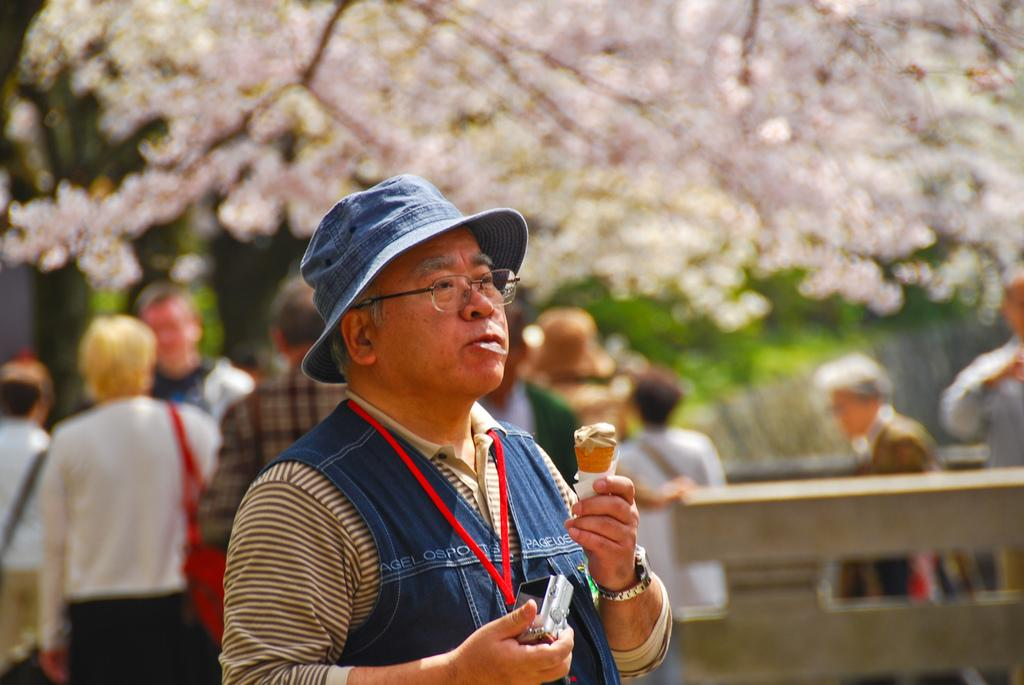Hat: (296, 172, 526, 388)
